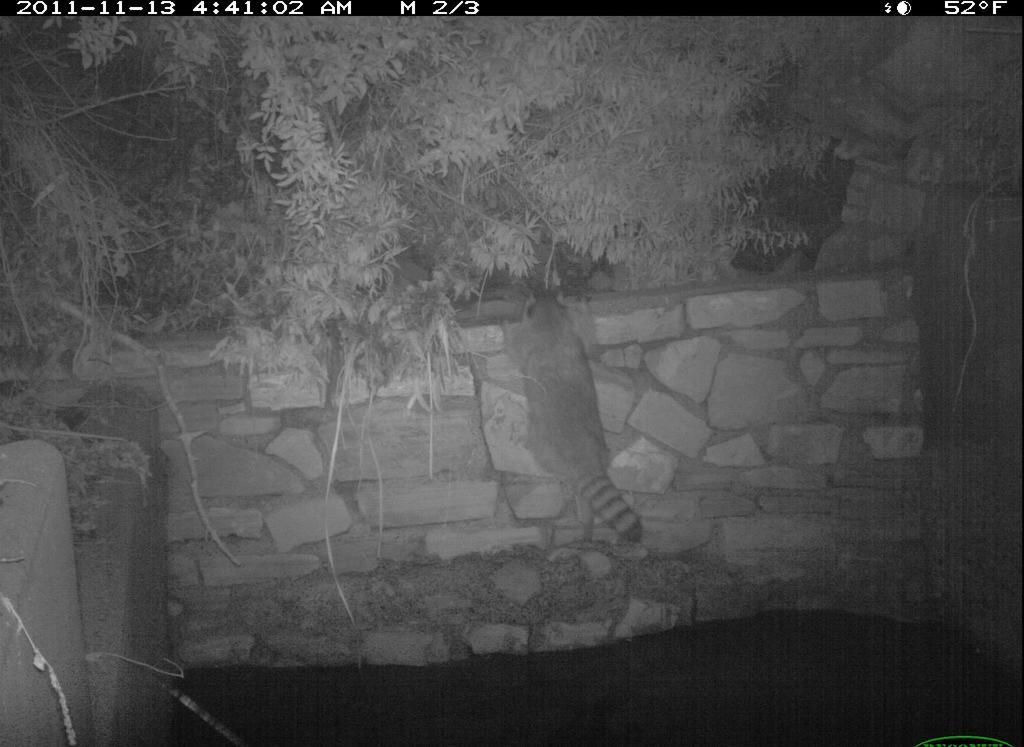raccoon: (489, 282, 655, 552)
